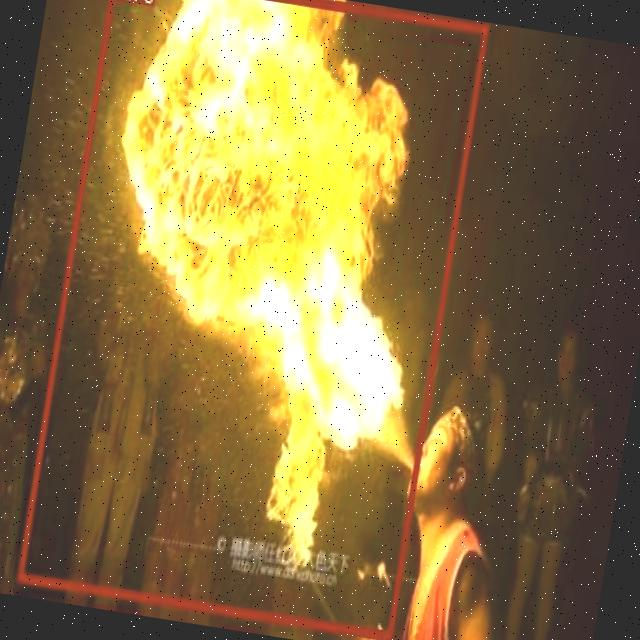fire: (16, 0, 488, 639)
